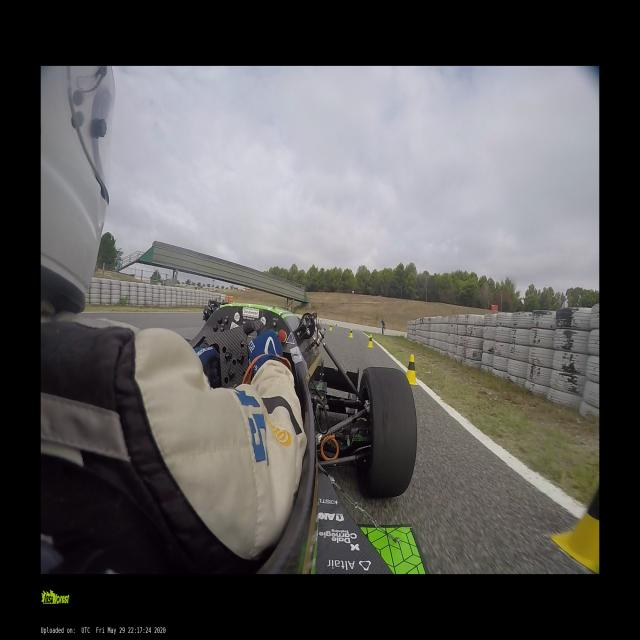yellow_cone: (551, 442, 599, 574), (407, 356, 418, 384), (366, 334, 374, 347), (348, 330, 354, 338), (329, 324, 332, 330)
